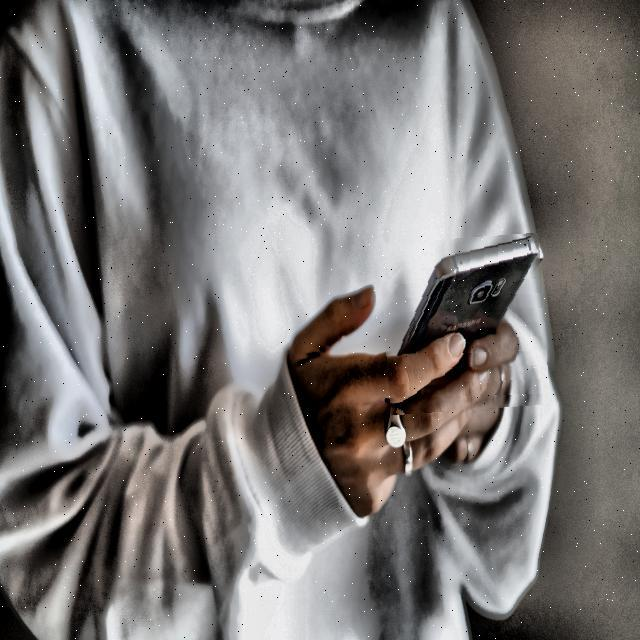Phone: (382, 235, 548, 412)
